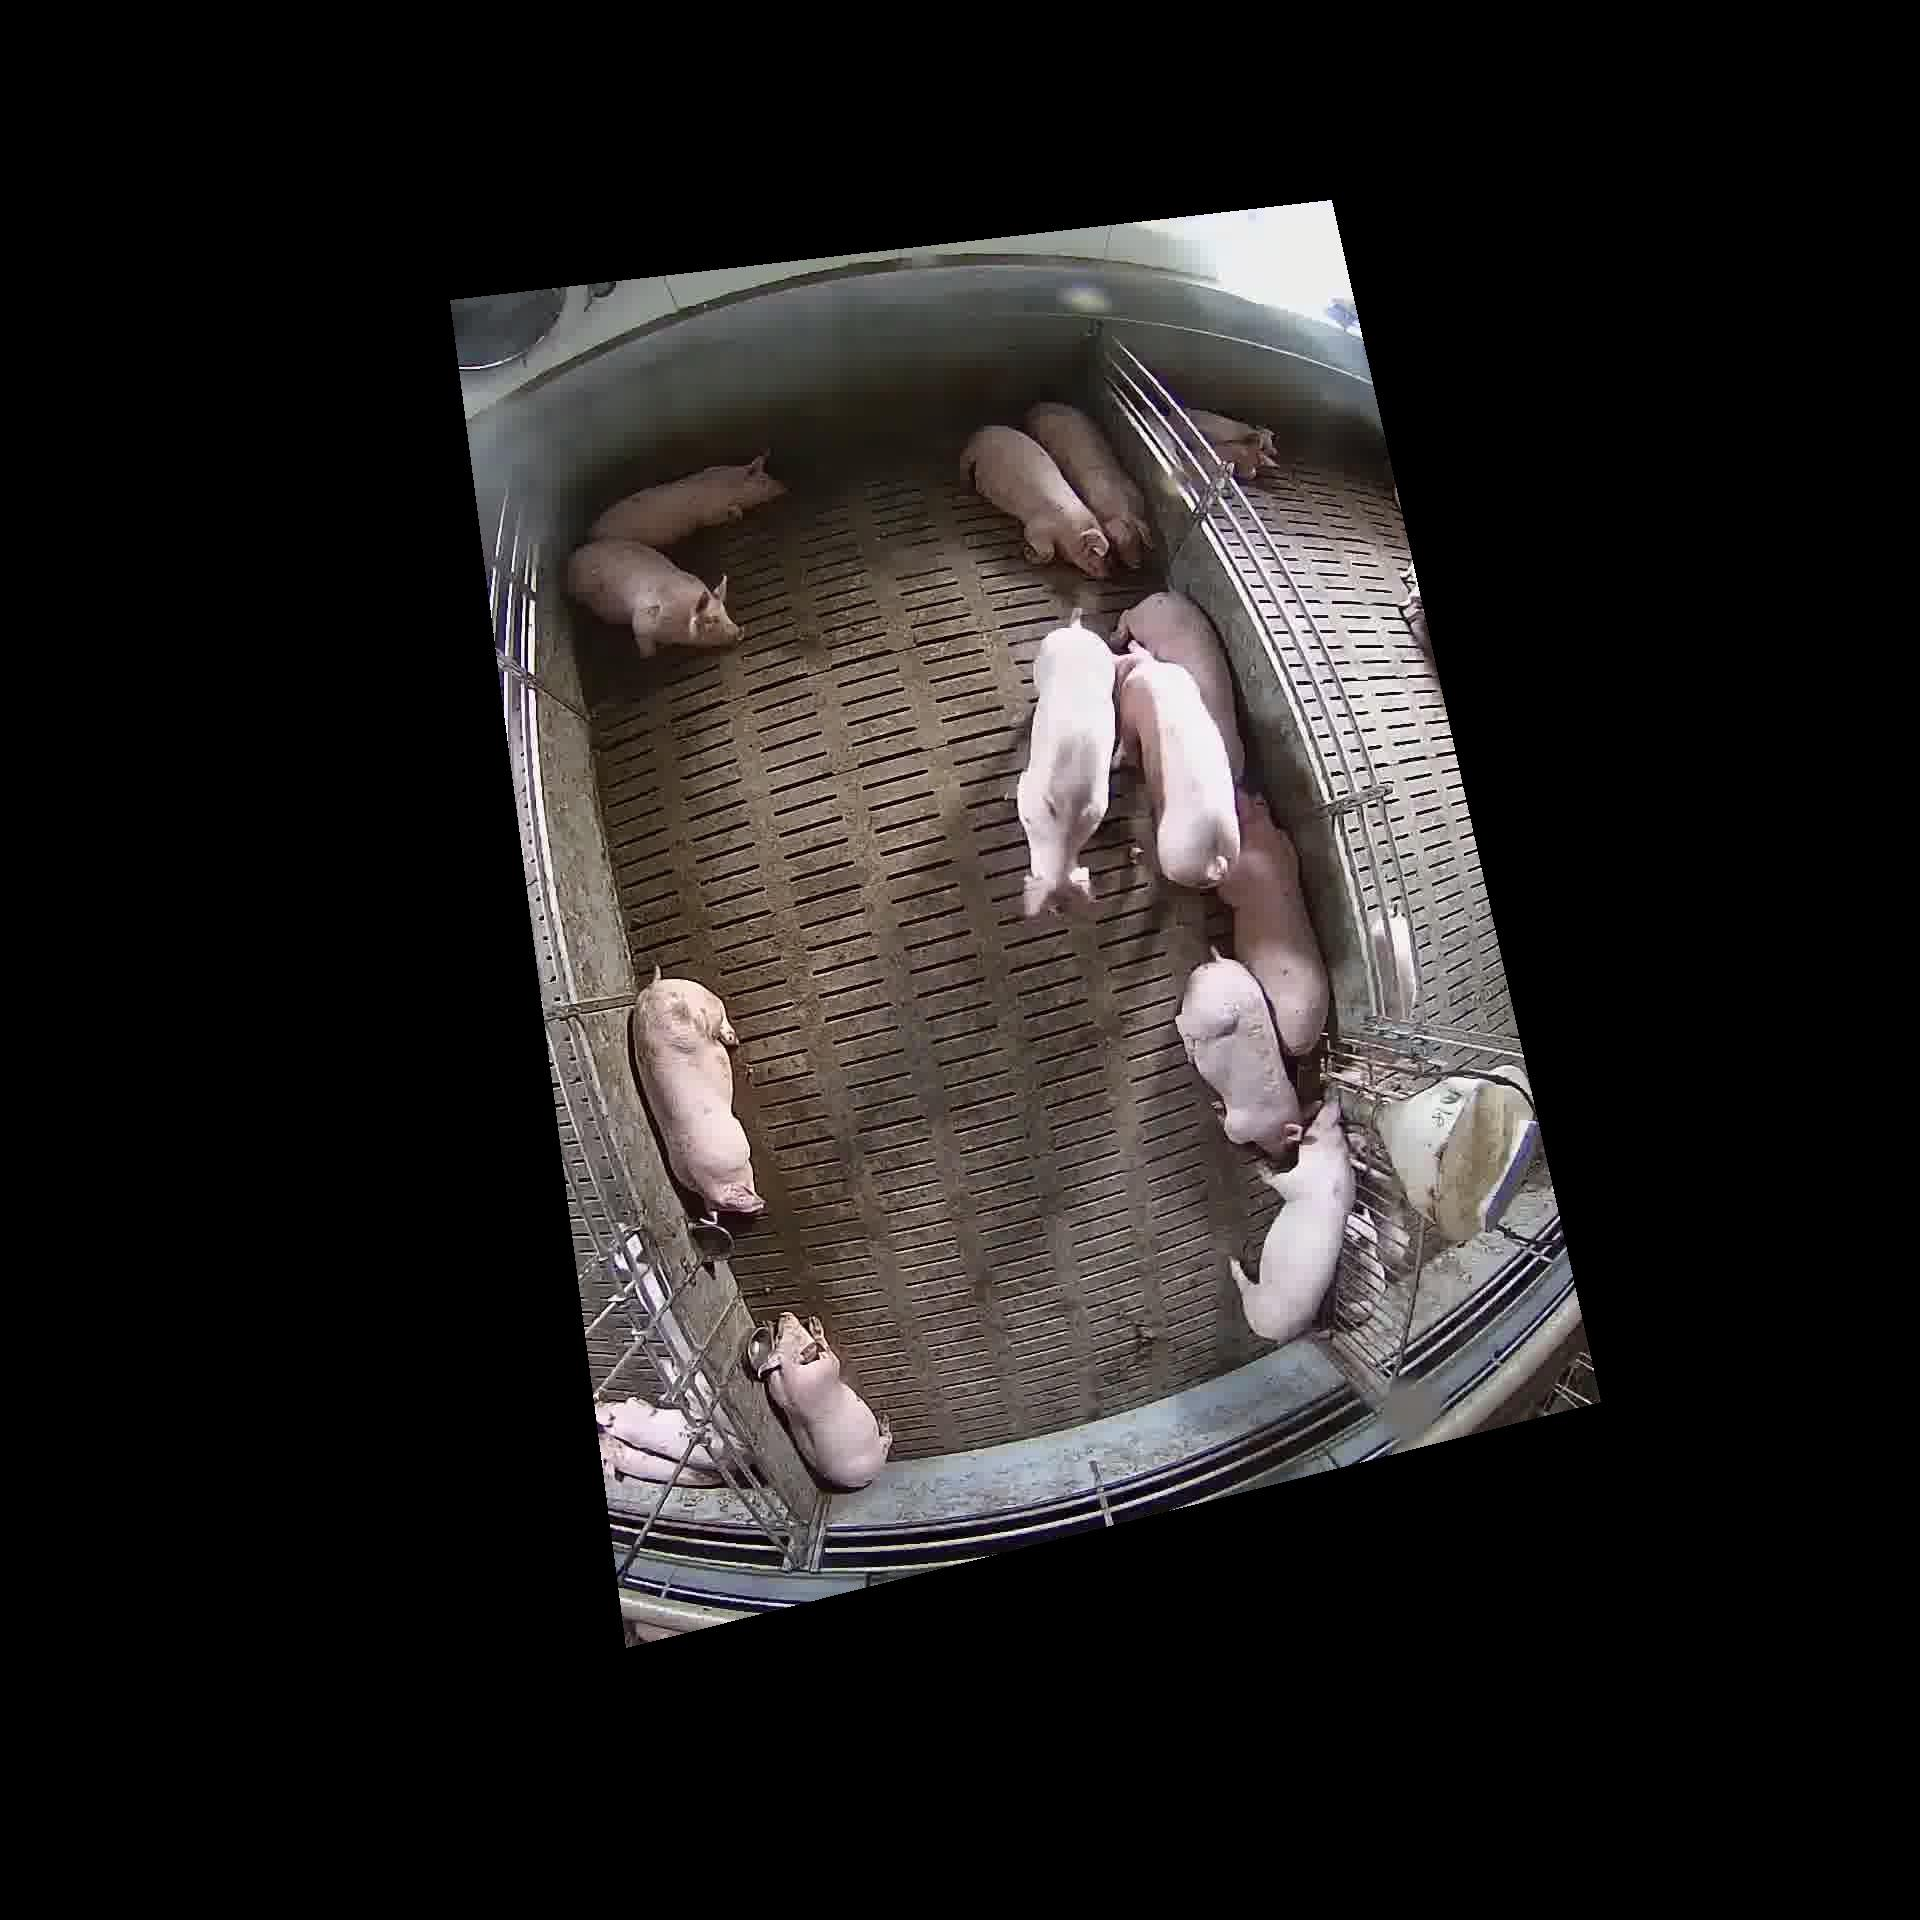pig: (629, 974, 760, 1217), (1115, 642, 1234, 886), (1217, 788, 1326, 1051), (1233, 1101, 1354, 1336), (1016, 622, 1111, 914), (1115, 587, 1241, 784), (1176, 955, 1298, 1152), (758, 1312, 890, 1486), (960, 425, 1106, 573), (1027, 403, 1148, 564), (564, 540, 731, 652), (587, 450, 782, 543)
